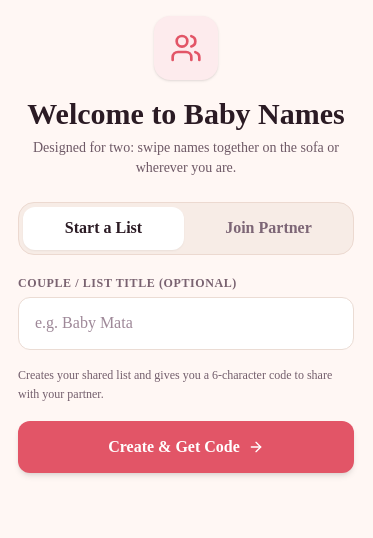
Test: OnboardingScreen › shows the couple_full join failure
Click the button "Join Partner" at [268, 228], box [188,207,349,250]
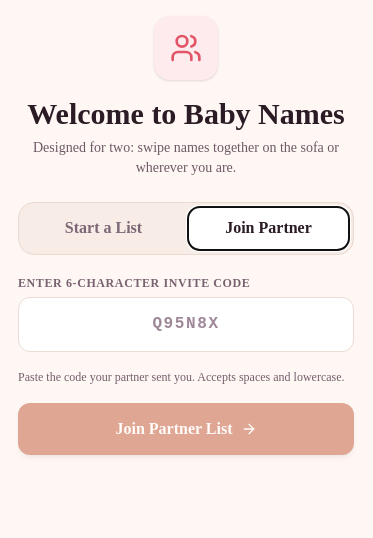
Type "abc 123" into the field with placeholder "Q95N8X" at [186, 324], box [18,297,354,352]
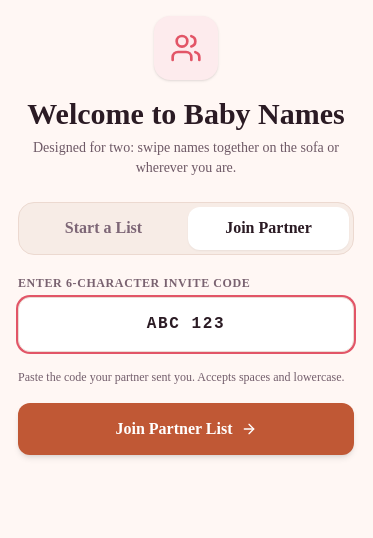
Click the button "Join Partner List" at [186, 429], box [18,403,354,455]
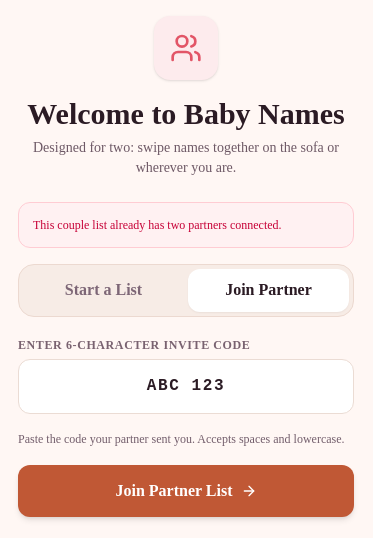
Now the text "This couple list already has two partners connected." is shown, box [18,202,354,248]
